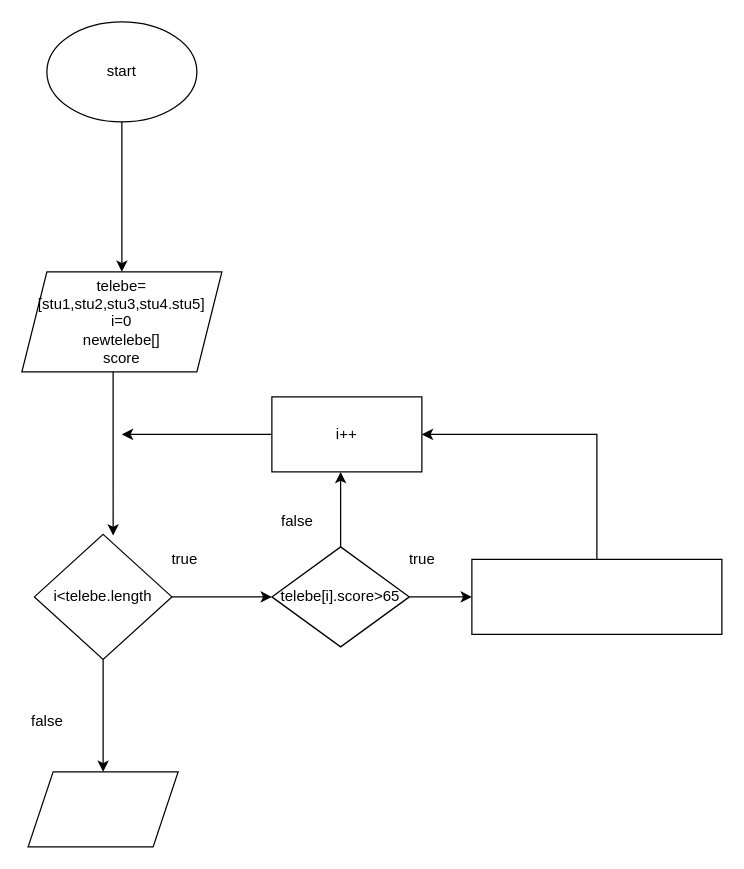
Image size: 744x869. Some labels were removed from this diagram. The centre of each missing label's shape, as x and y in pixels:
"newtelebe=telebe[i].push" belongs at pixel 596 596.
"print telebe[i]" belongs at pixel 102 809.
